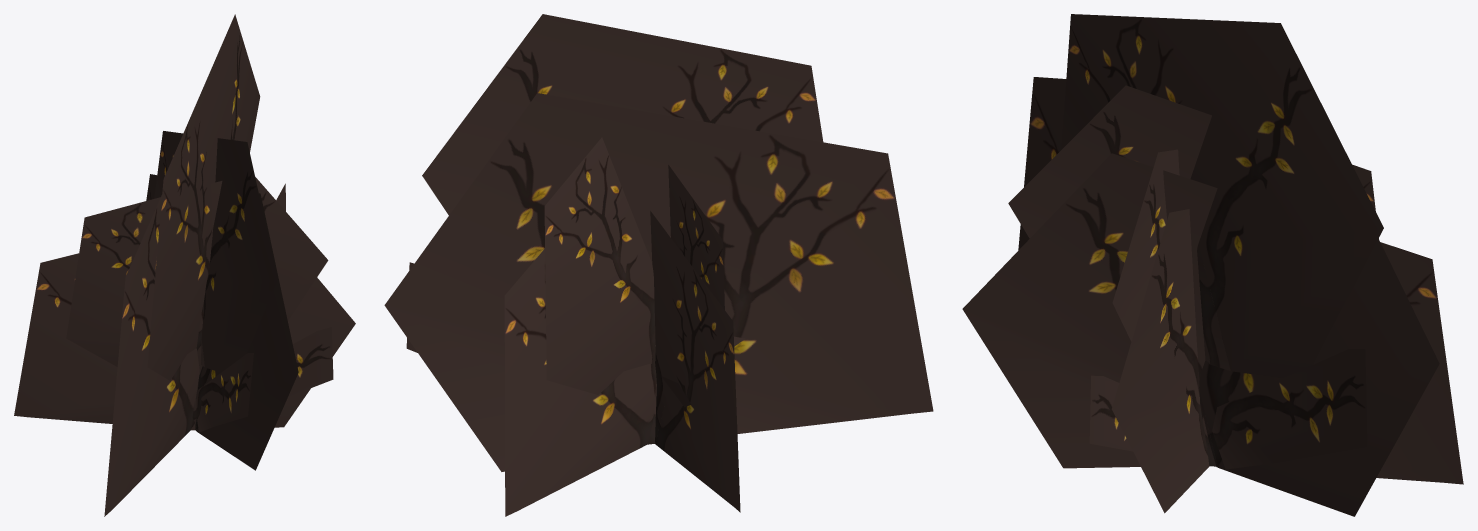
File: bush7.fbx
The picture shows the model from 3 angles, left to right: view 1: azimuth 30°, elevation 25°; view 2: azimuth 150°, elevation 25°; view 3: azimuth 270°, elevation 25°; orthographic projection. The views are drawn at different scales.
Parts seen in each view (by area): view 1: bush7; view 2: bush7; view 3: bush7.
Part boxes in pixels (bbox=[...]): bush7: bbox=[14, 14, 355, 516]; bush7: bbox=[384, 14, 933, 516]; bush7: bbox=[962, 14, 1463, 516].
Bounding box in the file's own units: 358 × 406 × 377.
